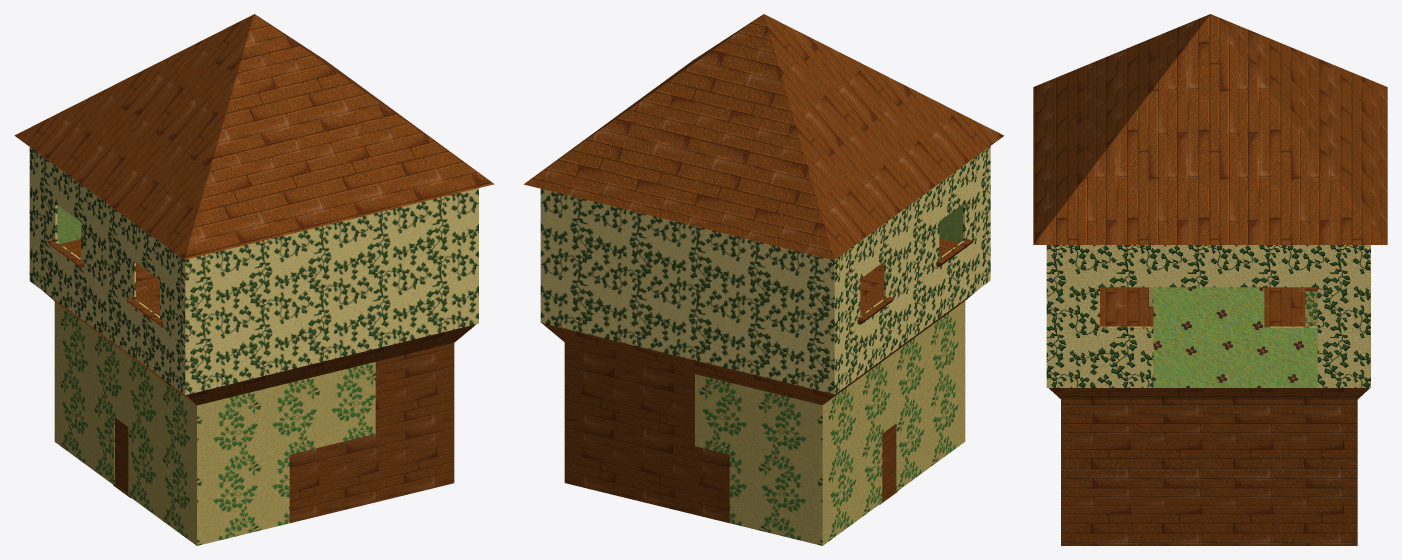
File: ShkPlace.glb
3 renders of one model, left to right at view 1: azimuth 30°, elevation 25°; view 2: azimuth 150°, elevation 25°; view 3: azimuth 270°, elevation 25°, orthographic. The views are drawn at different scales.
Parts seen in each view (by area): view 1: ShkPlace; view 2: ShkPlace; view 3: ShkPlace.
Part boxes in pixels (x1=…): ShkPlace: x1=14, y1=14, x2=494, y2=545; ShkPlace: x1=523, y1=14, x2=1003, y2=545; ShkPlace: x1=1033, y1=14, x2=1387, y2=545.
Size of the model in its own units: 673 by 930 by 638.
Materials: 7 (7 with a texture image).
